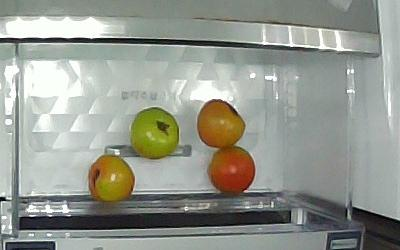tomato: (130, 107, 179, 161), (197, 99, 245, 147), (89, 153, 135, 200), (207, 147, 255, 192)
